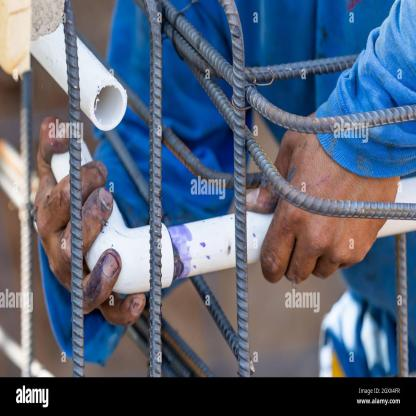PVC: (86, 176, 273, 294), (29, 22, 128, 131), (379, 179, 416, 238)
